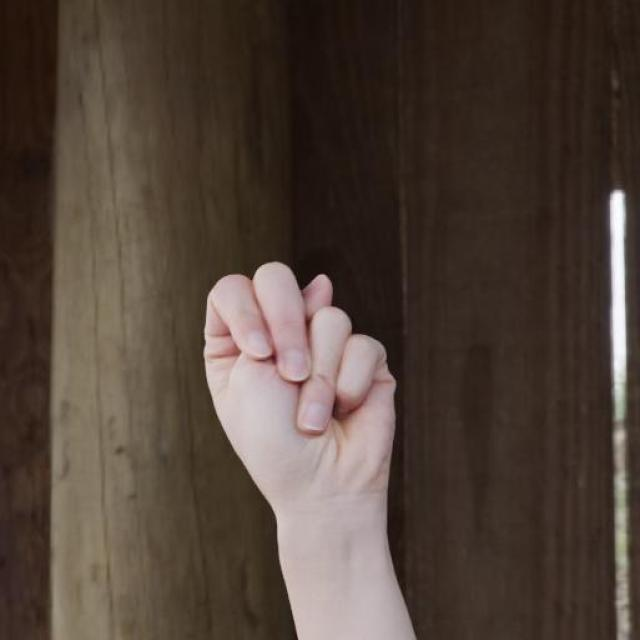N: (197, 257, 401, 518)
